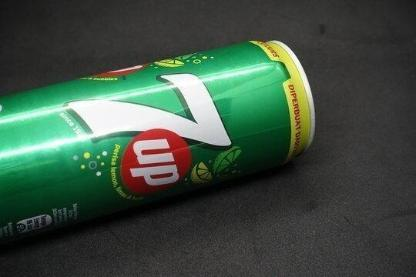Can: (1, 36, 317, 250)
